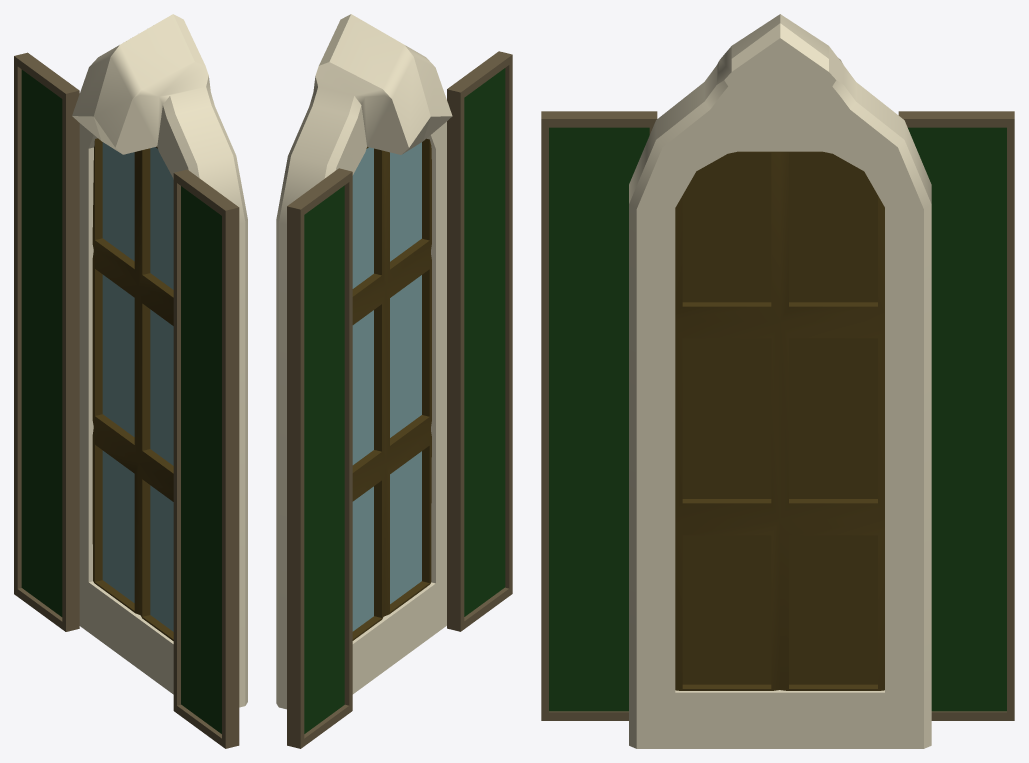
Rendered from wwr window.fbx.
3 views of the same model, side by side, from view 1: azimuth 30°, elevation 25°; view 2: azimuth 150°, elevation 25°; view 3: azimuth 270°, elevation 25° (orthographic). The views are drawn at different scales.
Visible parts, largest first — view 1: window, stoneframe, window_shader1, window_shader, woodenframe, woodenframe1; view 2: window, stoneframe, window_shader, window_shader1, woodenframe1, woodenframe; view 3: window, stoneframe, window_shader, window_shader1, woodenframe, woodenframe1.
Boxes of the visible parts, box(x1,y1,x2,y2) form: window: box(92, 138, 173, 640); stoneframe: box(72, 14, 247, 707); window_shader1: box(21, 69, 62, 616); window_shader: box(181, 186, 221, 733); woodenframe: box(173, 169, 239, 748); woodenframe1: box(14, 52, 79, 631); window: box(352, 138, 431, 640); stoneframe: box(276, 14, 452, 709); window_shader: box(464, 68, 505, 616); window_shader1: box(304, 185, 344, 733); woodenframe1: box(287, 168, 352, 748); woodenframe: box(447, 51, 512, 631); window: box(675, 151, 884, 690); stoneframe: box(629, 14, 931, 748); window_shader: box(549, 127, 649, 711); window_shader1: box(908, 127, 1006, 711); woodenframe: box(541, 111, 657, 720); woodenframe1: box(898, 111, 1014, 720).
Bounding box in the file's own units: 1.25 × 8.53 × 5.08.
